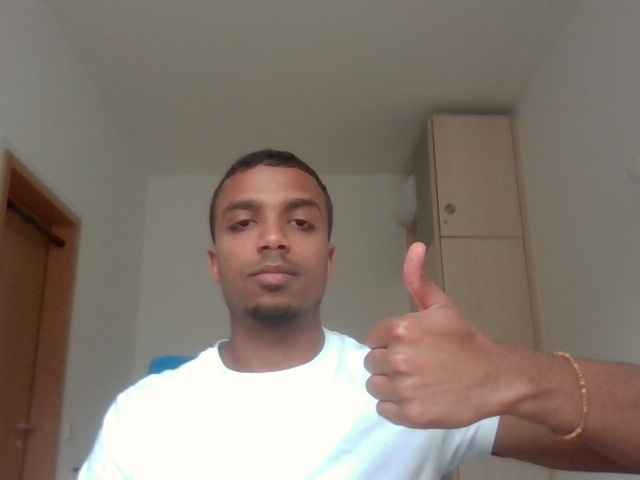yes: (345, 229, 531, 446)
